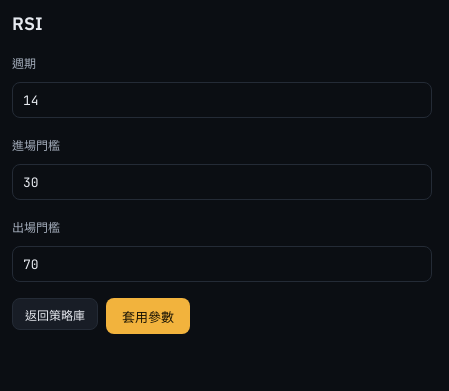
Test: StrategyParamForm › RSI：進場門檻不低於出場門檻時顯示錯誤
Replace the text in the field labelled "進場門檻" with "80" at (222, 182), box x1=12 y1=164 x2=432 y2=200
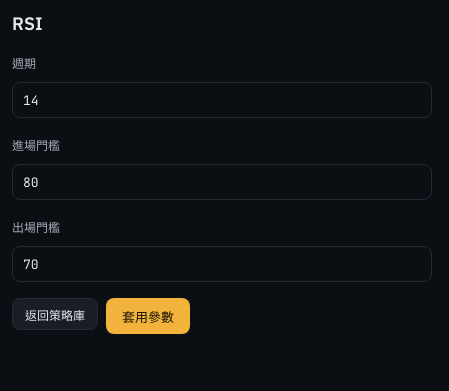
Click the button "套用參數" at (148, 316), box x1=106 y1=298 x2=190 y2=334
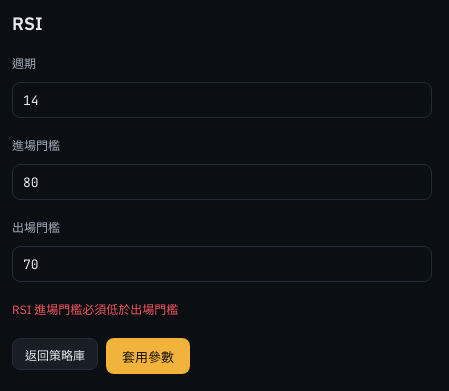
Check: the text "RSI 進場門檻必須低於出場門檻" is shown, box x1=12 y1=298 x2=178 y2=322
